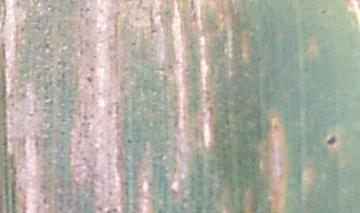tarspot: (324, 132, 338, 149), (207, 107, 214, 122), (318, 8, 330, 15), (88, 65, 96, 73), (85, 76, 94, 83), (126, 137, 133, 145), (135, 137, 141, 146), (206, 96, 212, 103), (111, 208, 117, 213), (206, 90, 212, 95), (105, 209, 111, 213)
